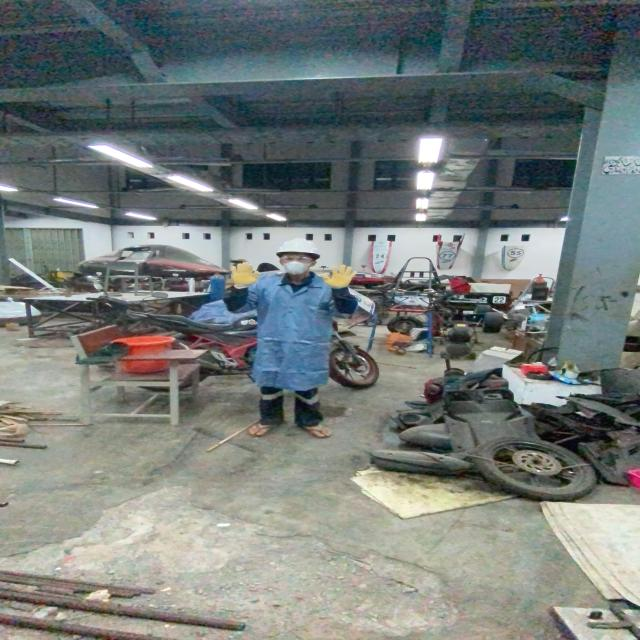face_mask: (276, 254, 314, 275)
glasses: (277, 254, 318, 264)
hand_glove: (316, 264, 358, 290), (226, 258, 262, 288)
head_helmet: (272, 236, 322, 257)
person: (214, 235, 370, 442)
